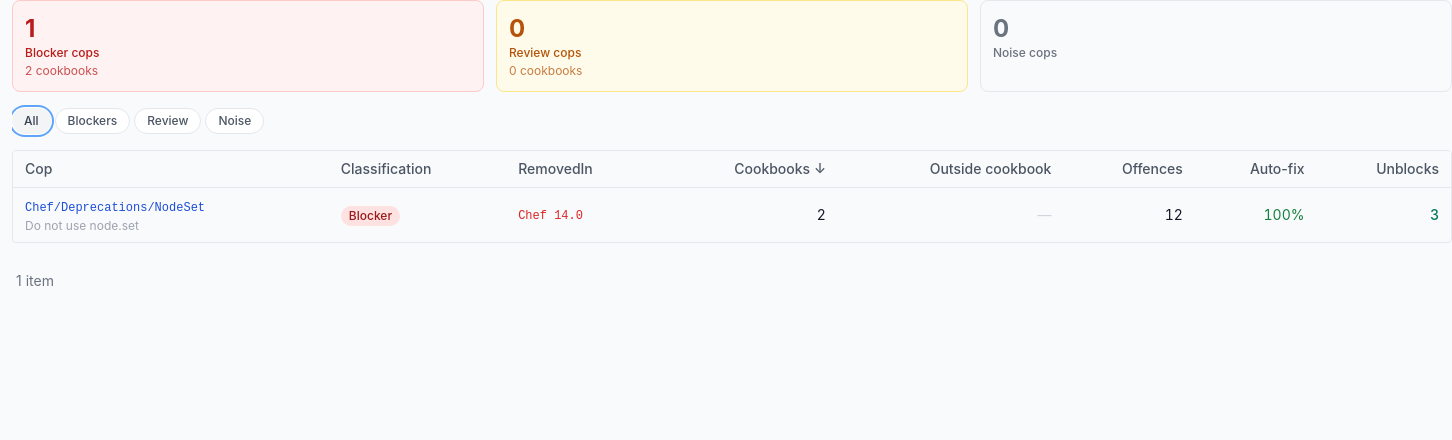
Test: CopAnalysisTab › surfaces drill-down pagination (showing X of N)
Click the button "Chef/Deprecations/NodeSet": (115,208) left=25, top=200, right=205, bottom=216
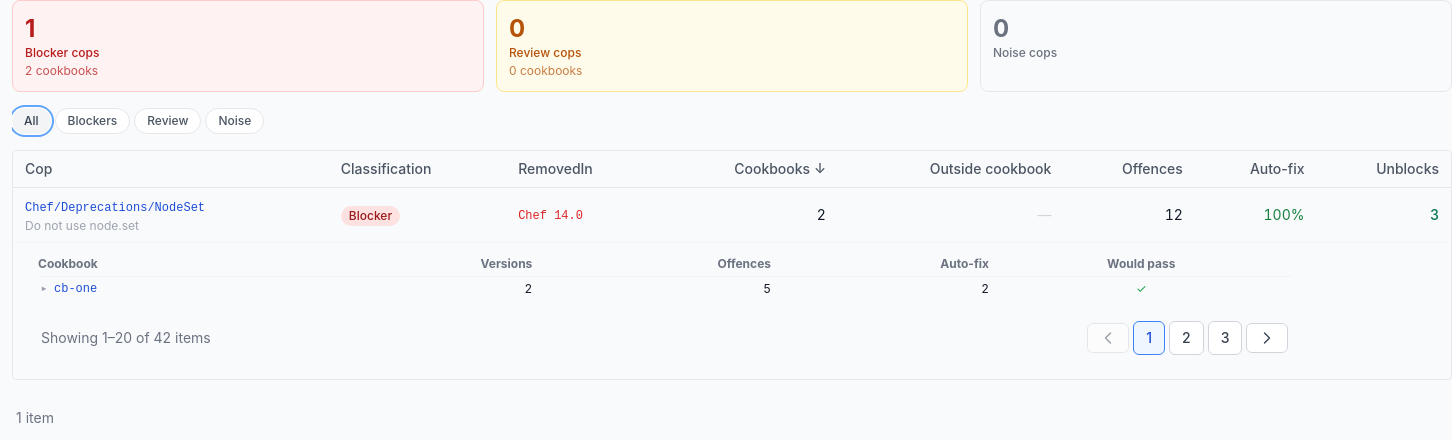
Check: the text "Showing 1–20 of 42 items" is shown, box left=41, top=328, right=211, bottom=348
